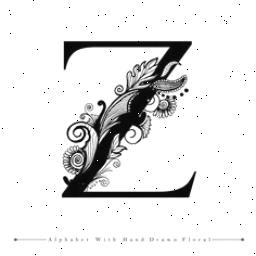z: (46, 33, 212, 207)
